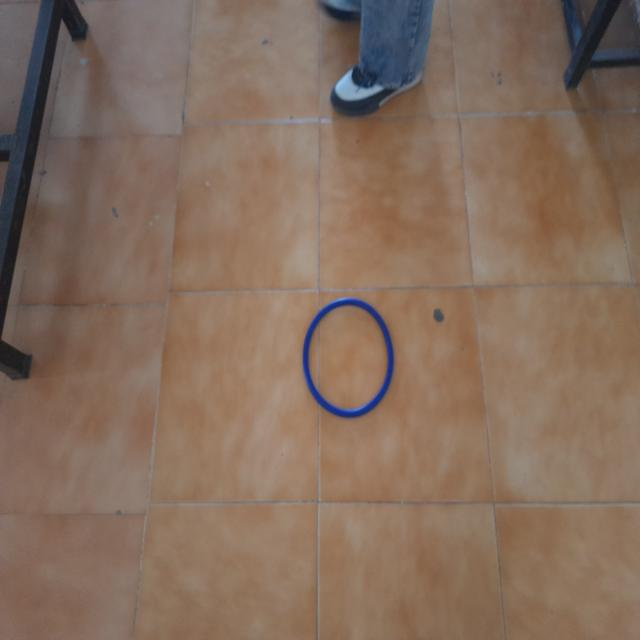daire: (299, 293, 398, 424)
